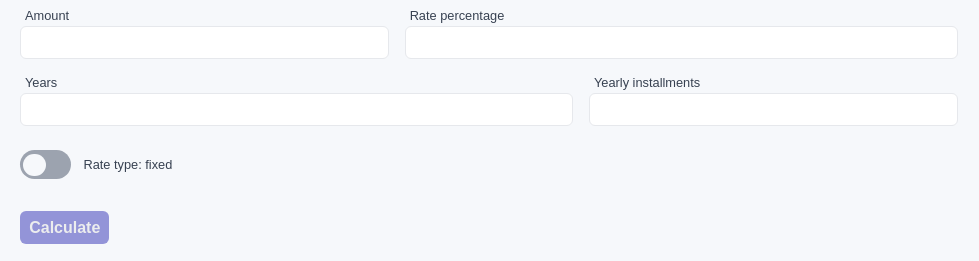
MortgageForm › enables the submit button when all fields are valid
Type "100000" into the field labelled "Amount".
click(204, 43); type("100000")  # box x1=20 y1=26 x2=389 y2=59
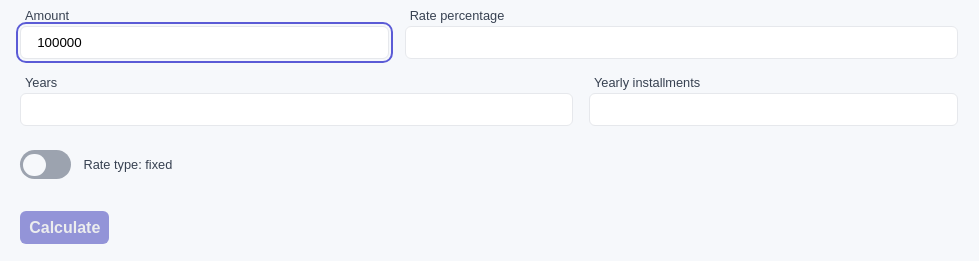
Type "2,5" into the field labelled "Rate percentage".
click(681, 43); type("2,5")  # box x1=405 y1=26 x2=958 y2=59
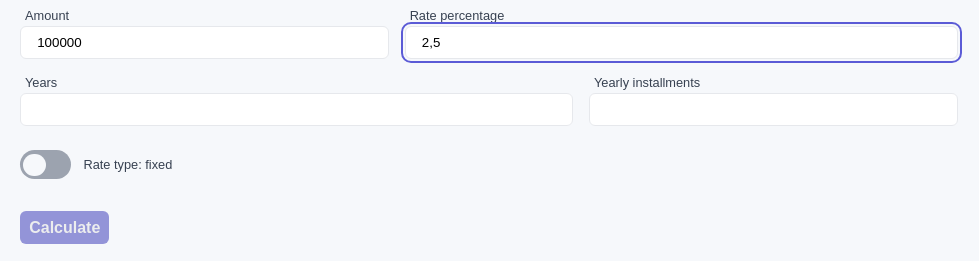
Type "20" into the field labelled "Years".
click(297, 110); type("20")  # box x1=20 y1=93 x2=573 y2=126
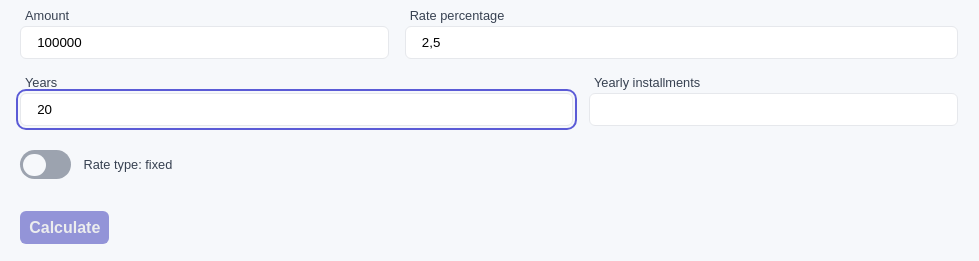
Type "12" into the field labelled "Yearly installments".
click(774, 110); type("12")  # box x1=589 y1=93 x2=958 y2=126
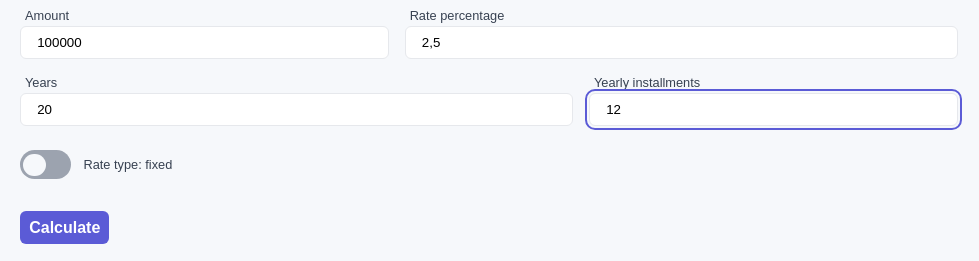
Check: the button "Calculate" is enabled, box x1=20 y1=211 x2=109 y2=244
